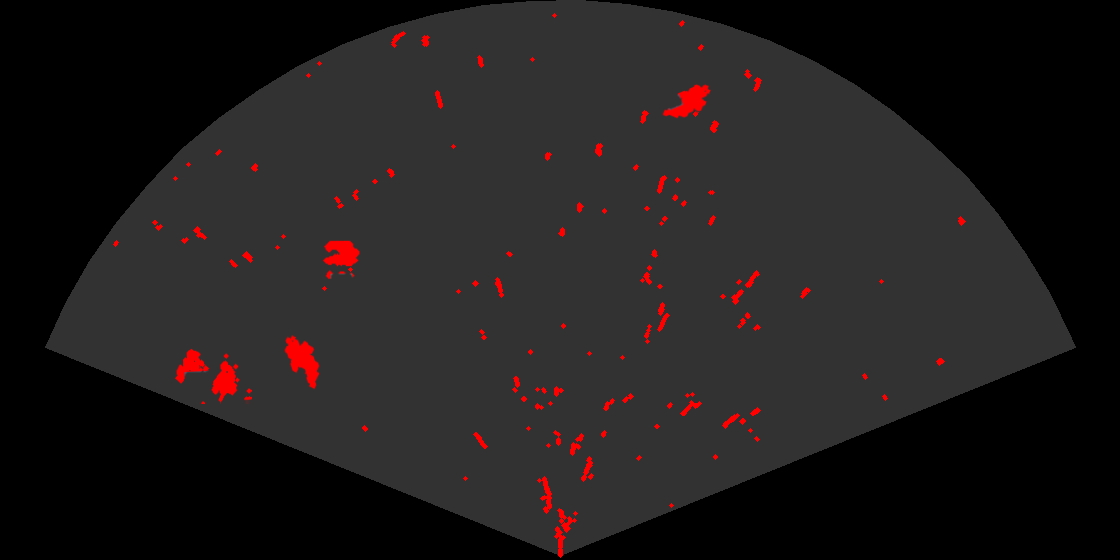AUV: (283, 333, 321, 391), (661, 82, 713, 120)
ball: (321, 239, 361, 281)
cage: (173, 347, 252, 404)
